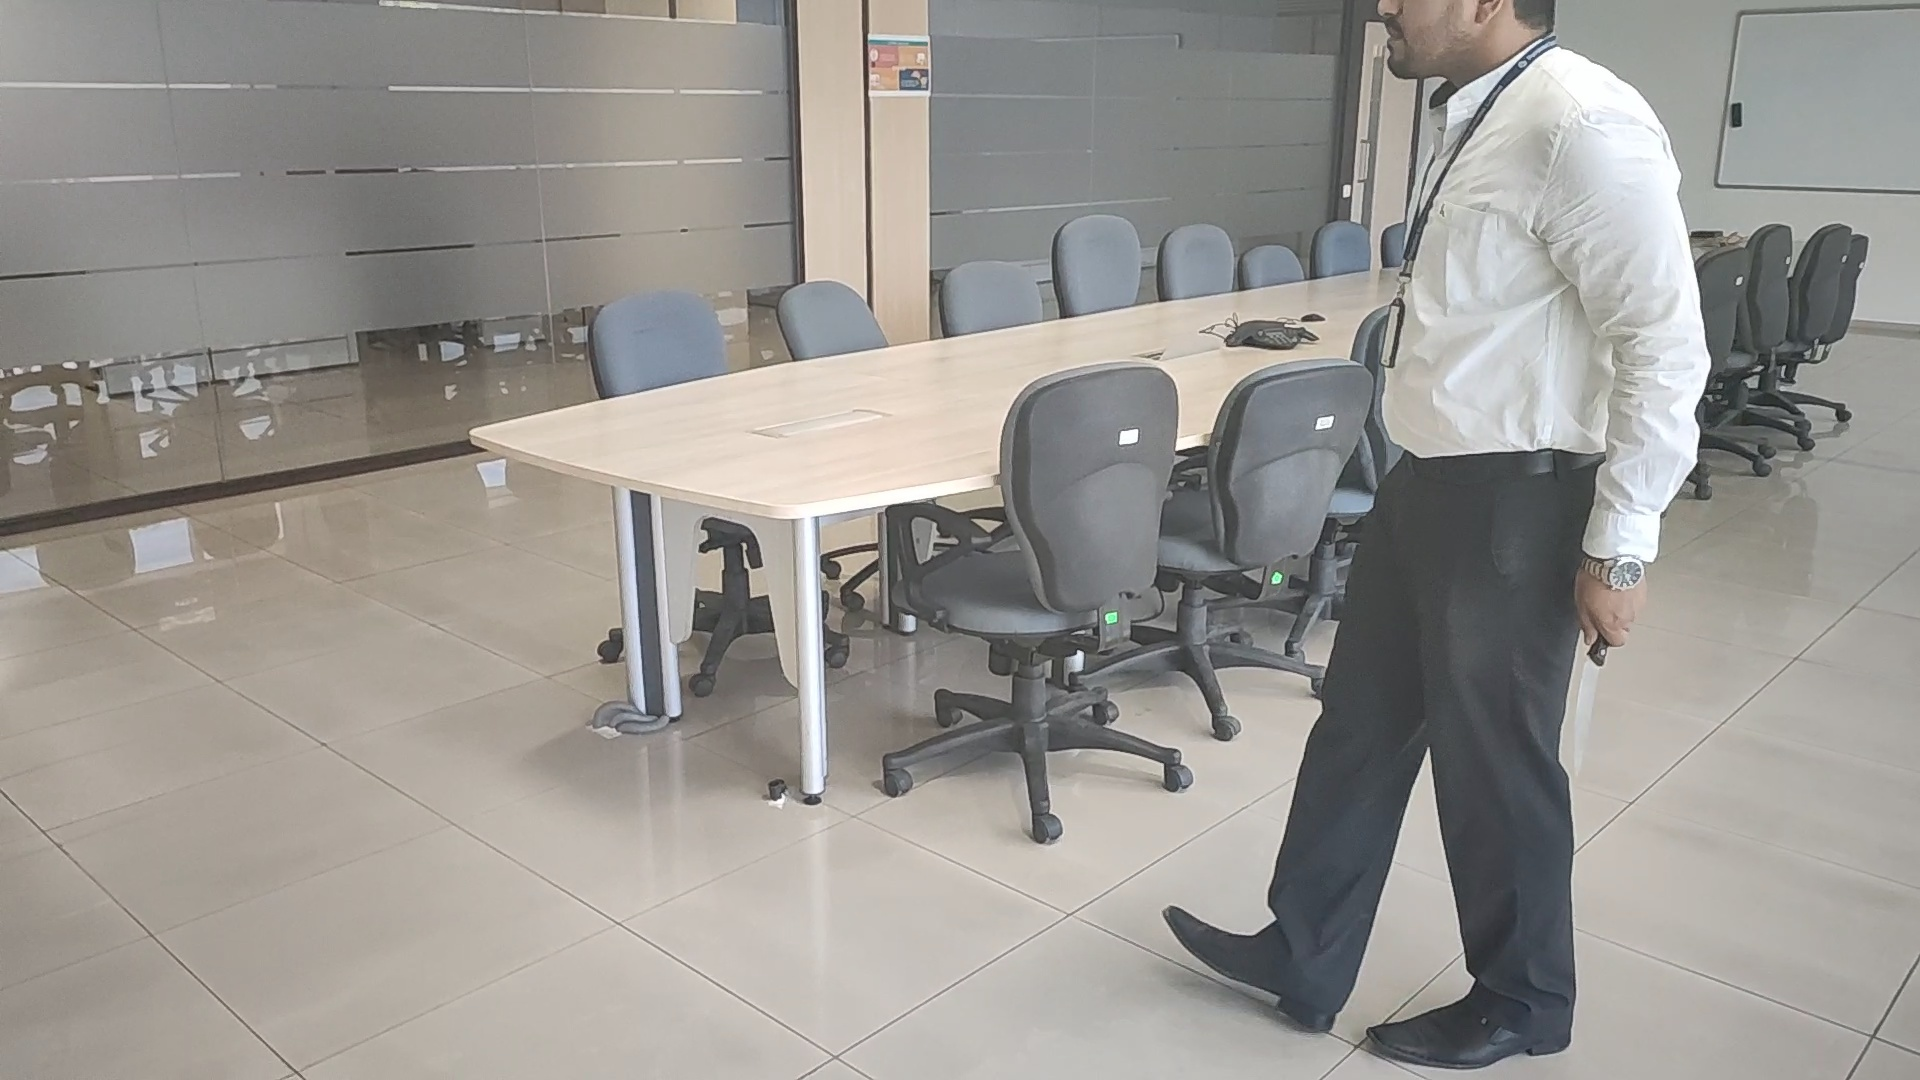knife: (1575, 647, 1600, 777)
